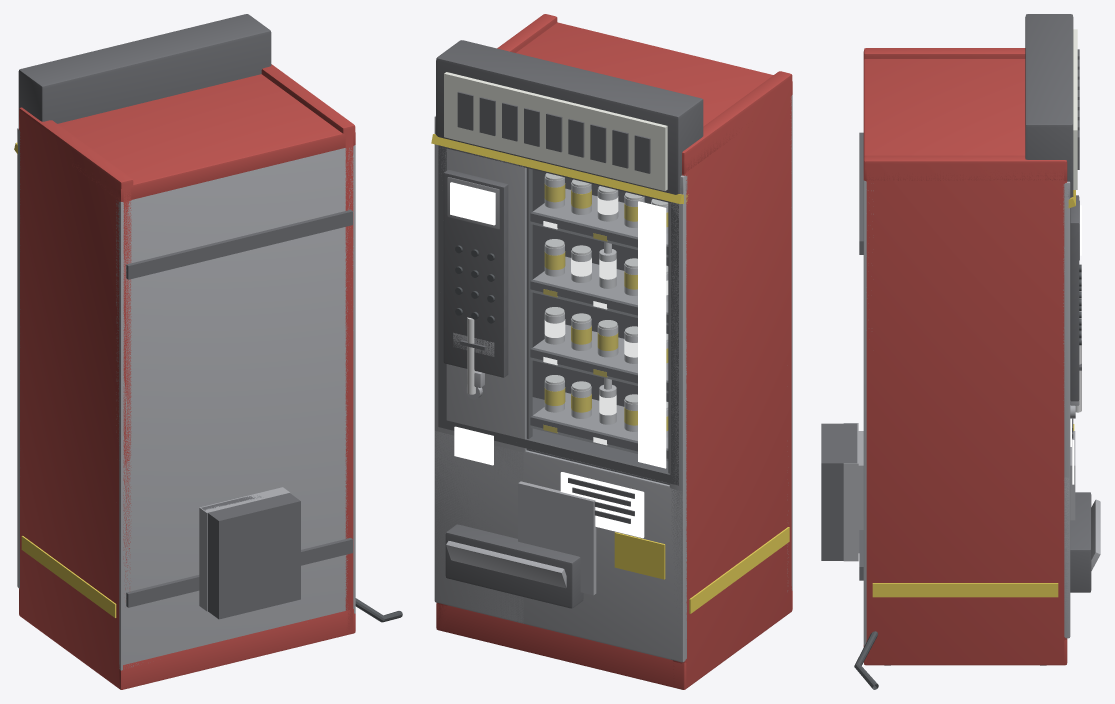
File: PR_vending_machine.fbx
3 views of the same model, side by side, from view 1: azimuth 30°, elevation 25°; view 2: azimuth 150°, elevation 25°; view 3: azimuth 270°, elevation 25° (orthographic). The views are drawn at different scales.
Visible parts, largest first — view 1: PR_vending_machine; view 2: PR_vending_machine; view 3: PR_vending_machine.
Part boxes in pixels (x1,y1,x2,y2): PR_vending_machine: [14, 14, 402, 689]; PR_vending_machine: [431, 14, 792, 689]; PR_vending_machine: [821, 14, 1100, 689].
Size of the model in its own units: 1.1 by 2.01 by 0.9334.
